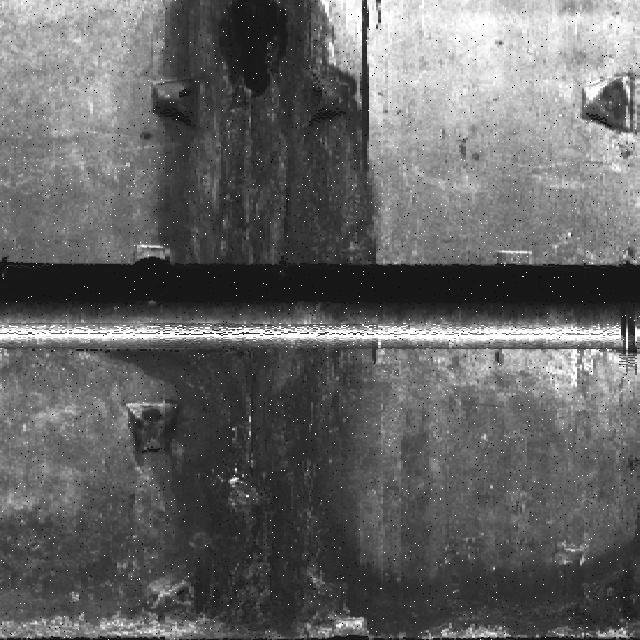leakage: (104, 347, 397, 627), (128, 1, 384, 271), (403, 533, 639, 637), (0, 495, 95, 625)
